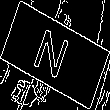N_SW: (33, 24, 77, 86)
